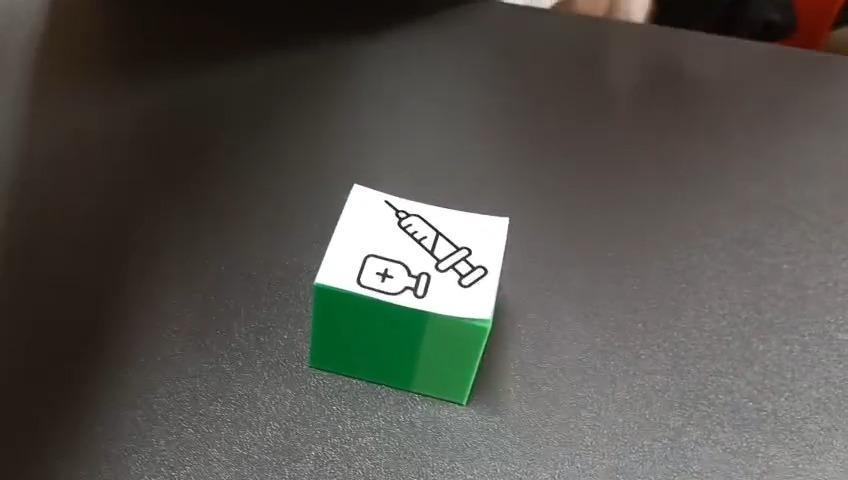antiseptic cream: (306, 181, 511, 406)
